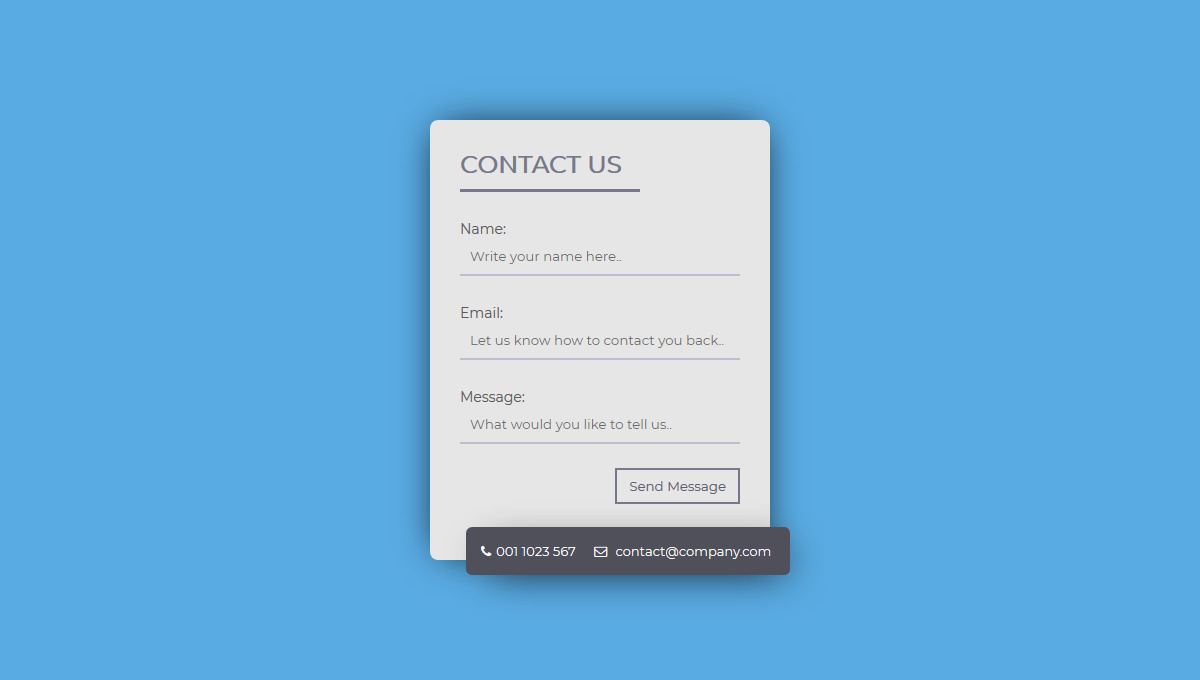_form_: (396, 166, 812, 583)
button: (615, 467, 743, 504)
field_line: (460, 323, 740, 362), (457, 240, 738, 278), (456, 409, 738, 445)
field_line_with_label: (453, 220, 740, 281), (454, 388, 740, 448), (457, 304, 742, 363)
